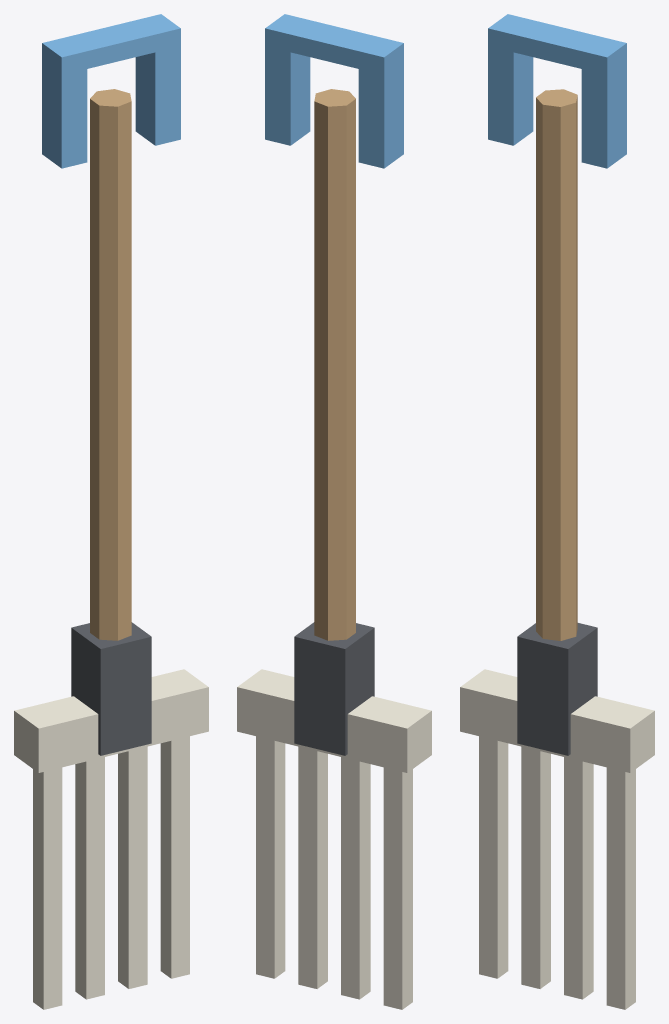
Rendered from lawn-mowing-simulator-kit-garden-fork-3c0ef054__27375.glb.
3 renders of one model, left to right at view 1: azimuth 30°, elevation 25°; view 2: azimuth 150°, elevation 25°; view 3: azimuth 330°, elevation 25°, orthographic.
Parts seen in each view (by area): view 1: garden-fork; view 2: garden-fork; view 3: garden-fork.
Boxes of the visible parts, bbox=[...] form: garden-fork: bbox=[14, 14, 208, 1009]; garden-fork: bbox=[237, 14, 431, 1009]; garden-fork: bbox=[460, 14, 654, 1009].
Size of the model in its own units: 0.2 by 1.07 by 0.06.
